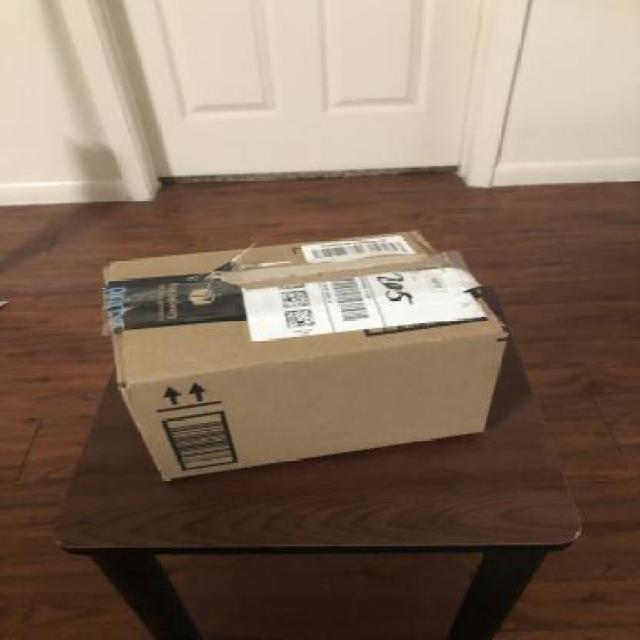box: (99, 228, 507, 478)
